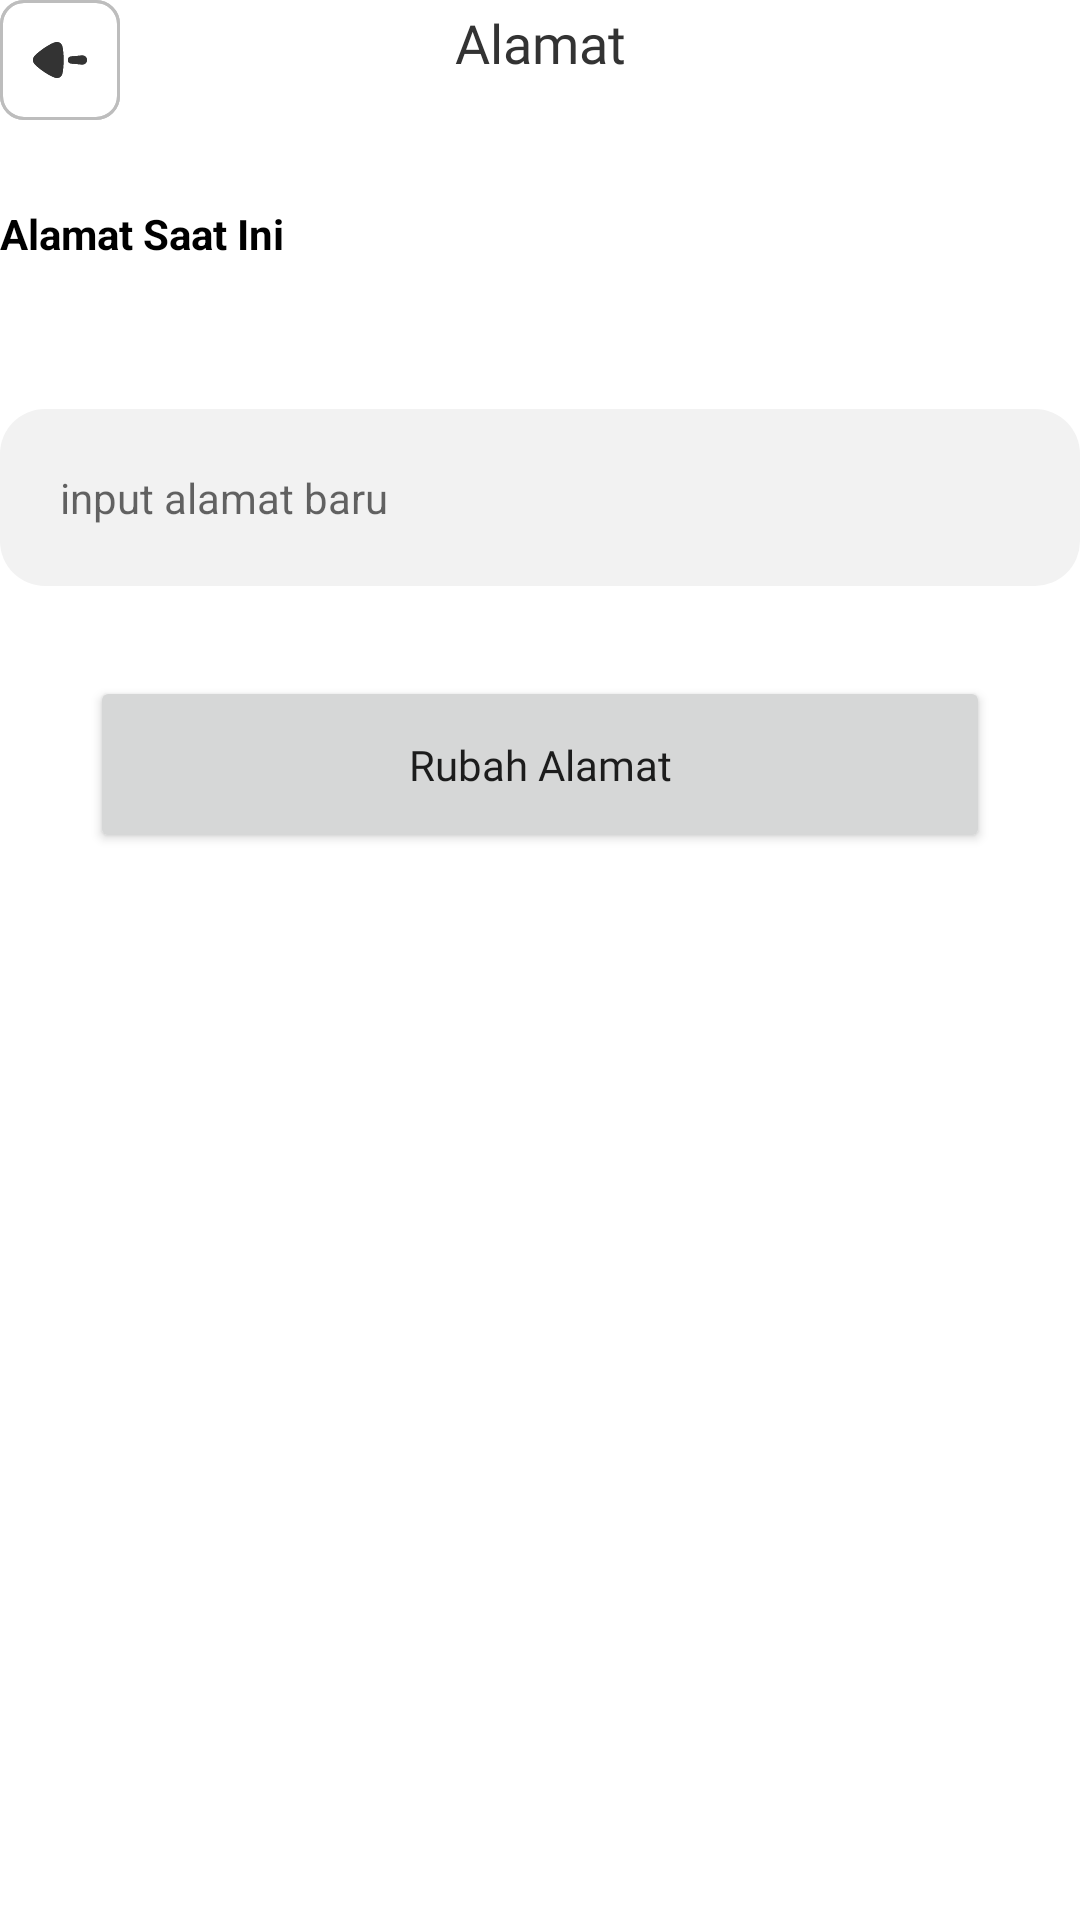

Named icons in this screenshot (1080px x 1920px) and their centers, [x,y]:
back: [60,60]
